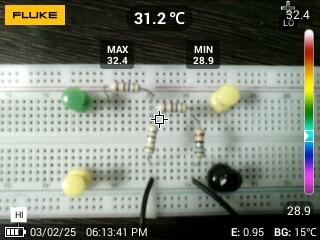resistor: (154, 99, 190, 116), (192, 125, 208, 160), (144, 121, 159, 158), (110, 80, 143, 95)
